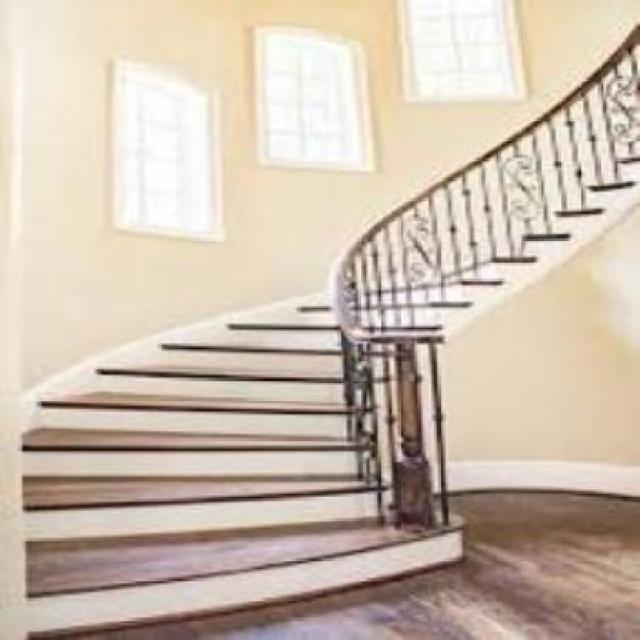stair: (11, 312, 450, 632)
